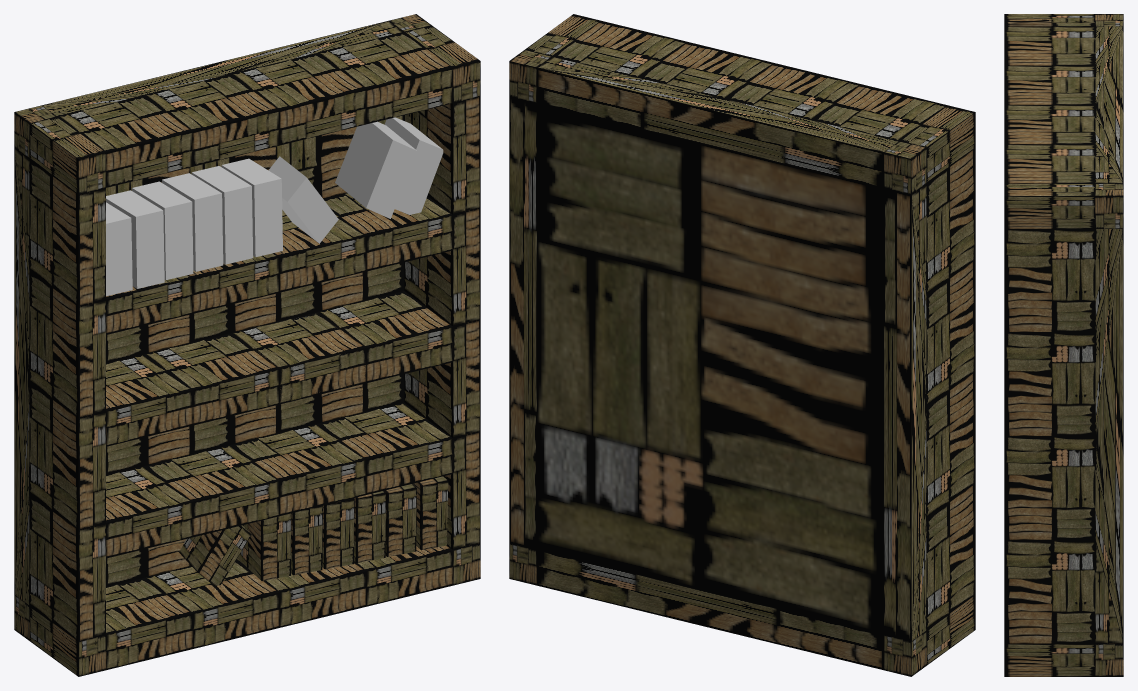
Rendered from bookcase.obj.
The picture shows the model from 3 angles, left to right: view 1: azimuth 30°, elevation 25°; view 2: azimuth 150°, elevation 25°; view 3: azimuth 270°, elevation 25°; orthographic projection. The views are drawn at different scales.
Visible parts, largest first — view 1: bookcase; view 2: bookcase; view 3: bookcase.
Part boxes in pixels (bbox=[...]): bookcase: bbox=[14, 14, 480, 676]; bookcase: bbox=[509, 14, 975, 676]; bookcase: bbox=[1004, 14, 1123, 676].
Bounding box in the file's own units: 0.65 × 0.8 × 0.18.
